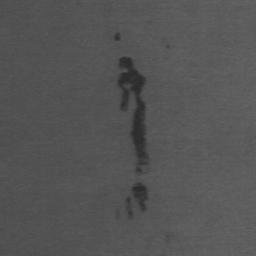Iron scale compression: (118, 58, 150, 176), (125, 183, 148, 220), (114, 32, 121, 41)
